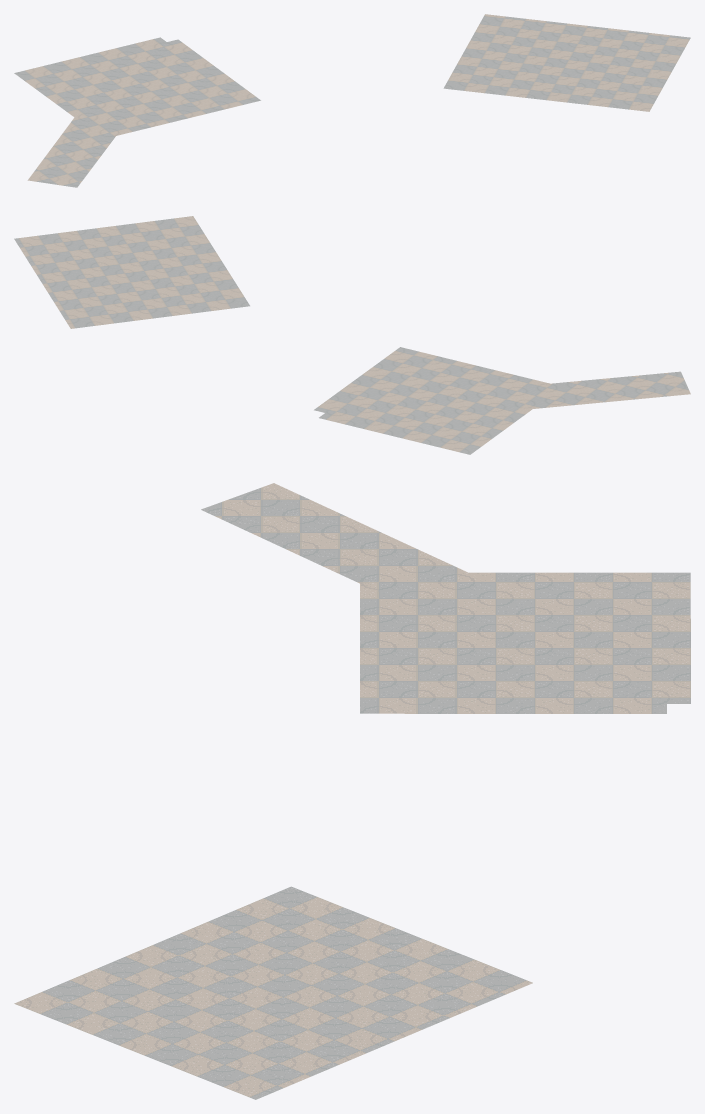
File: kd_stage_135fe0_5_56_bounded.glb
3 renders of one model, top to bottom at view 1: azimuth 30°, elevation 25°; view 2: azimuth 150°, elevation 25°; view 3: azimuth 270°, elevation 25°, orthographic. The views are drawn at different scales.
Parts seen in each view (by area): view 1: kd_stage_135fe0_5_56_bounded; view 2: kd_stage_135fe0_5_56_bounded; view 3: kd_stage_135fe0_5_56_bounded.
Boxes of the visible parts, x1,y1,x2,y2 form: kd_stage_135fe0_5_56_bounded: (14, 14, 690, 187); kd_stage_135fe0_5_56_bounded: (14, 216, 690, 454); kd_stage_135fe0_5_56_bounded: (14, 483, 690, 1099).
Size of the model in its own units: 5.83 by 0.12 by 2.82.
Materials: 1 (1 with a texture image).
